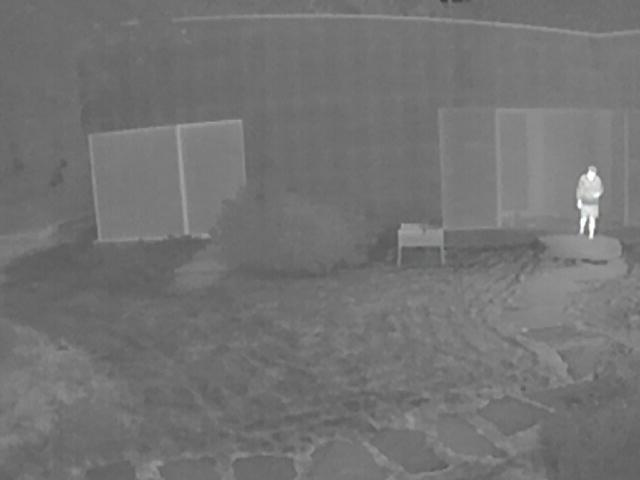person: (575, 166, 604, 240)
